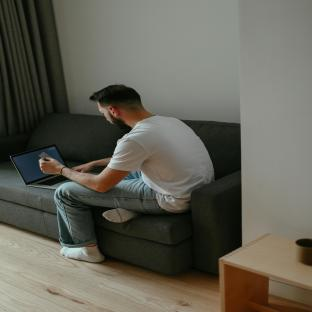Human: (40, 85, 214, 262)
